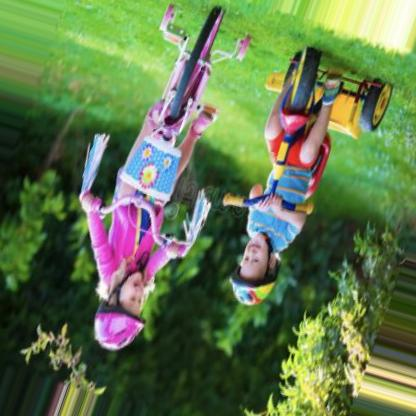with helmet: (93, 271, 147, 350), (226, 231, 280, 308)
